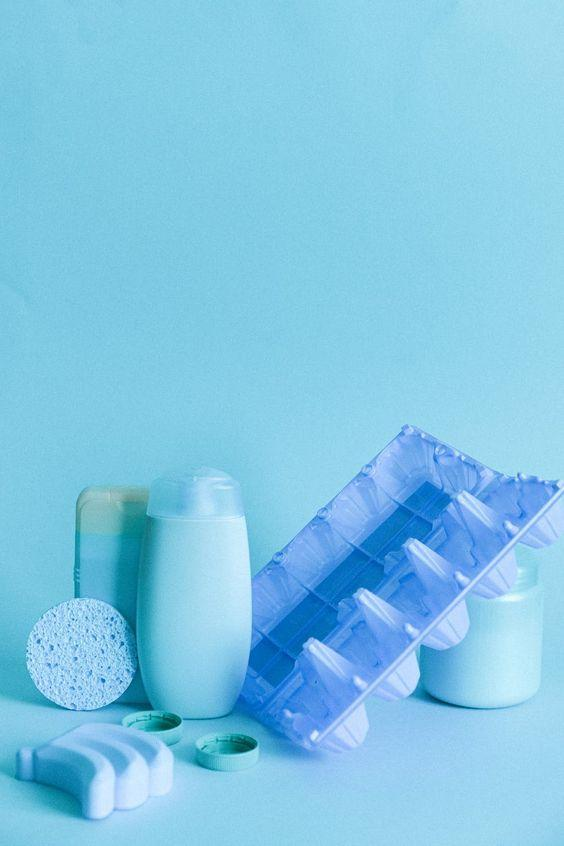HDPE: (135, 520, 272, 728), (423, 554, 543, 711)
PP: (140, 447, 262, 518)
PS: (252, 429, 564, 757)
